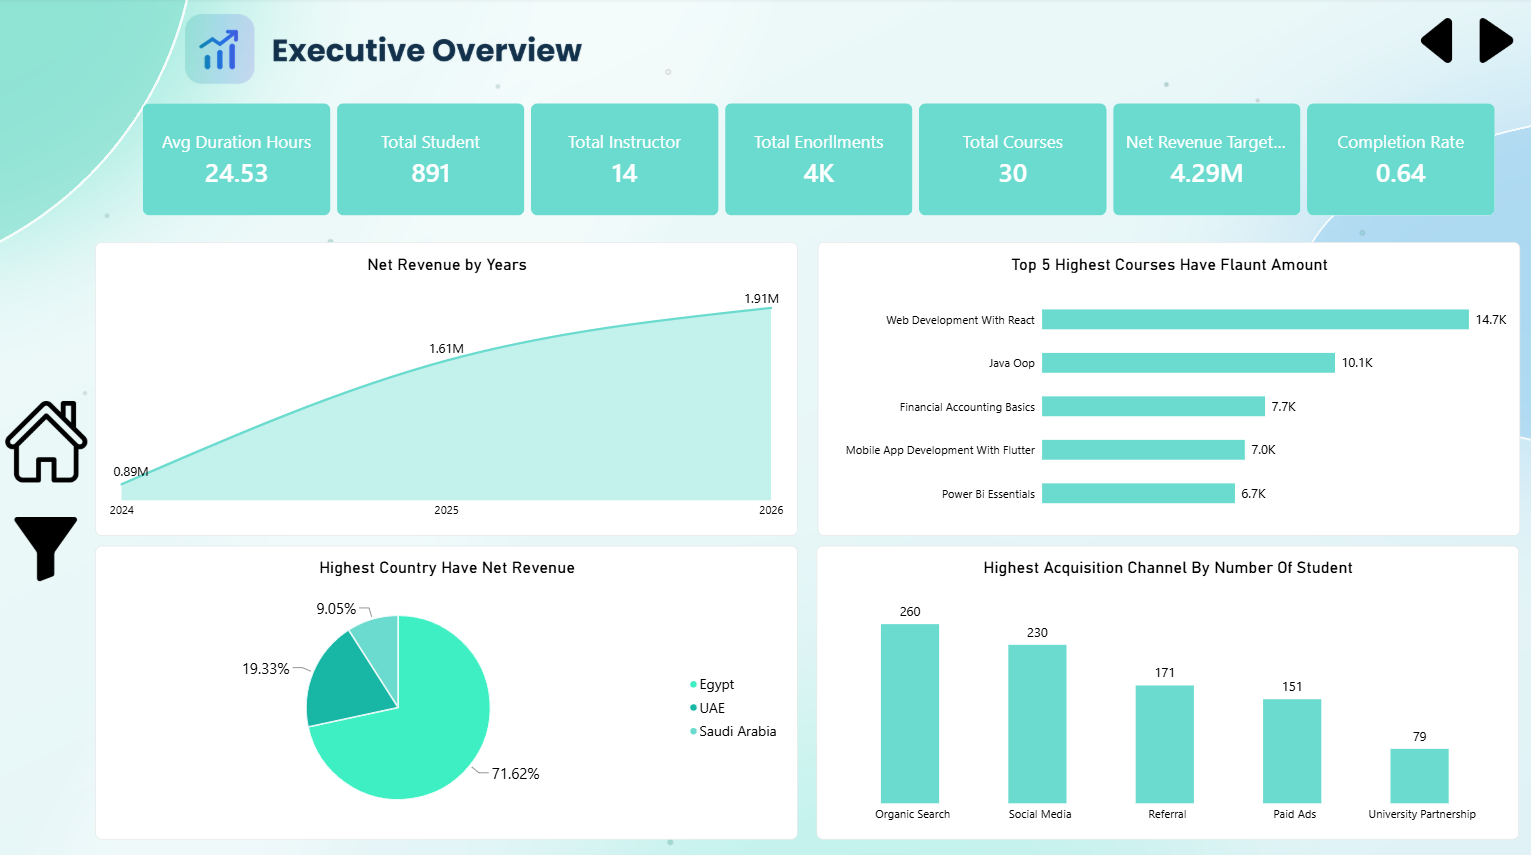

The dashboard page shown, as its layout file describes it:
{"tool":"powerbi","page":{"name":"Excutive Overview","canvas":[1920,1080],"ordinal":1},"visuals":[{"type":"image","box":[0,0,1920,1080],"z":0},{"type":"image","box":[8,648,100,80],"z":2000},{"type":"image","box":[228,0,504,130],"z":3000},{"type":"cardVisual","fields":{"Data":["_measures.Avg Duration Hours","_measures.Total Student","_measures.Total Instructor","_measures.Total Enorllments","_measures.Total Courses","_measures.Net Revenue Target (to date)","_measures.Completion Rate"]},"box":[180,132,1688,140],"z":4000},{"type":"image","box":[8,492,102,124],"z":5000},{"type":"image","box":[1764,6,56,96],"z":6000},{"type":"image","box":[1840,6,56,96],"z":7000},{"type":"lineChart","title":"Net Revenue by Years","fields":{"Category":["Date.Year"],"Y":["_measures.Net Revenue"]},"box":[120,306,876,366],"z":8000},{"type":"pieChart","title":"Highest Country Have Net Revenue","fields":{"Category":["Instructor.Country"],"Y":["_measures.Net Revenue"]},"box":[120,684,876,366],"z":9000},{"type":"clusteredColumnChart","title":"Highest Acquisition Channel By Number Of Student","fields":{"Category":["Student.AcquisitionChannel"],"Y":["CountNonNull(Student.StudentName)"]},"box":[1020,684,876,366],"z":10000},{"type":"clusteredBarChart","title":"Top 5 Highest Courses Have Flaunt Amount","fields":{"Category":["Course.CourseName"],"Y":["_measures.Total Refund Amount"]},"box":[1021.6,305.8,876.3,366.6],"z":14000}]}

Visuals, with their boxes in screenshot pixels (x1, y1, x2, y2), scaled from the page's 1920x1080 canvas onto the 1531x855 screenshot:
image: <bbox>0, 0, 1530, 854</bbox>
image: <bbox>6, 513, 86, 576</bbox>
image: <bbox>182, 0, 584, 103</bbox>
cardVisual - _measures.Avg Duration Hours x _measures.Total Student: <bbox>144, 104, 1490, 215</bbox>
image: <bbox>6, 390, 88, 488</bbox>
image: <bbox>1407, 5, 1451, 81</bbox>
image: <bbox>1467, 5, 1512, 81</bbox>
"Net Revenue by Years" lineChart: <bbox>96, 242, 794, 532</bbox>
"Highest Country Have Net Revenue" pieChart: <bbox>96, 542, 794, 831</bbox>
"Highest Acquisition Channel By Number Of Student" clusteredColumnChart: <bbox>813, 542, 1512, 831</bbox>
"Top 5 Highest Courses Have Flaunt Amount" clusteredBarChart: <bbox>815, 242, 1513, 532</bbox>
